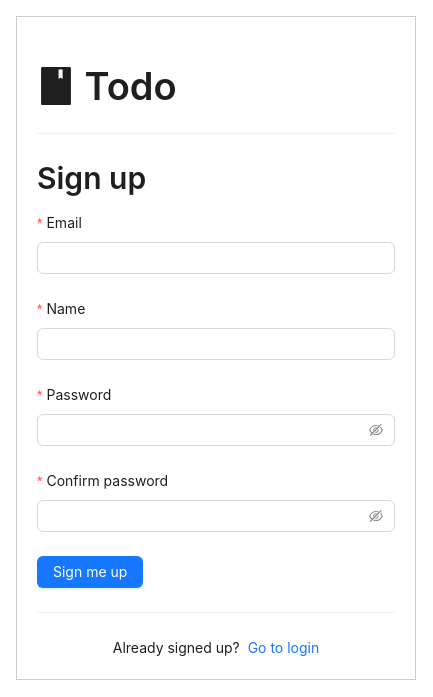
SignUp › email input validity
The image size is (433, 697).
Type "john.appleseed" into the field labelled "Email" at (216, 258), box [37,242,395,274]
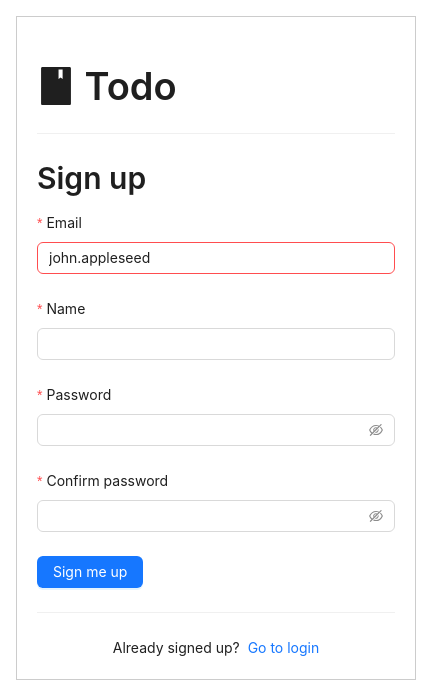
Replace the text in the field labelled "Email" with "john.appleseed@mail.com" at (216, 258), box [37,242,395,274]
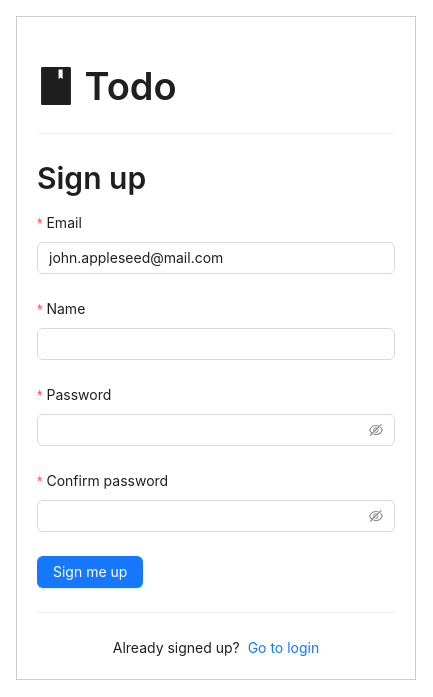
Expected: the text "Email is not a valid email!" is not shown
Clear the field labelled "Email" at (216, 258), box [37,242,395,274]
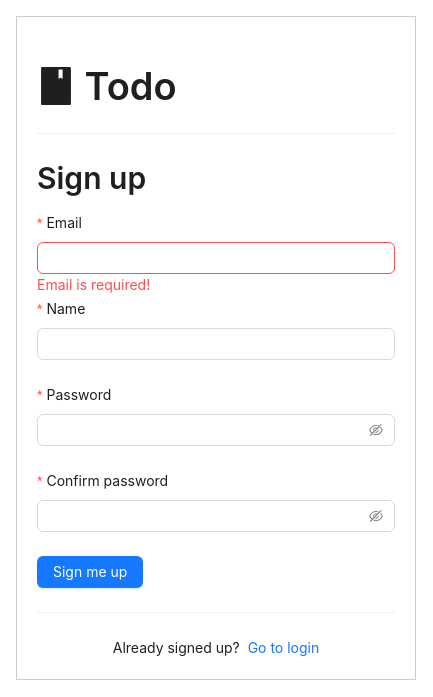
Expected: the text "Email is required!" is shown, [37,276,150,293]
